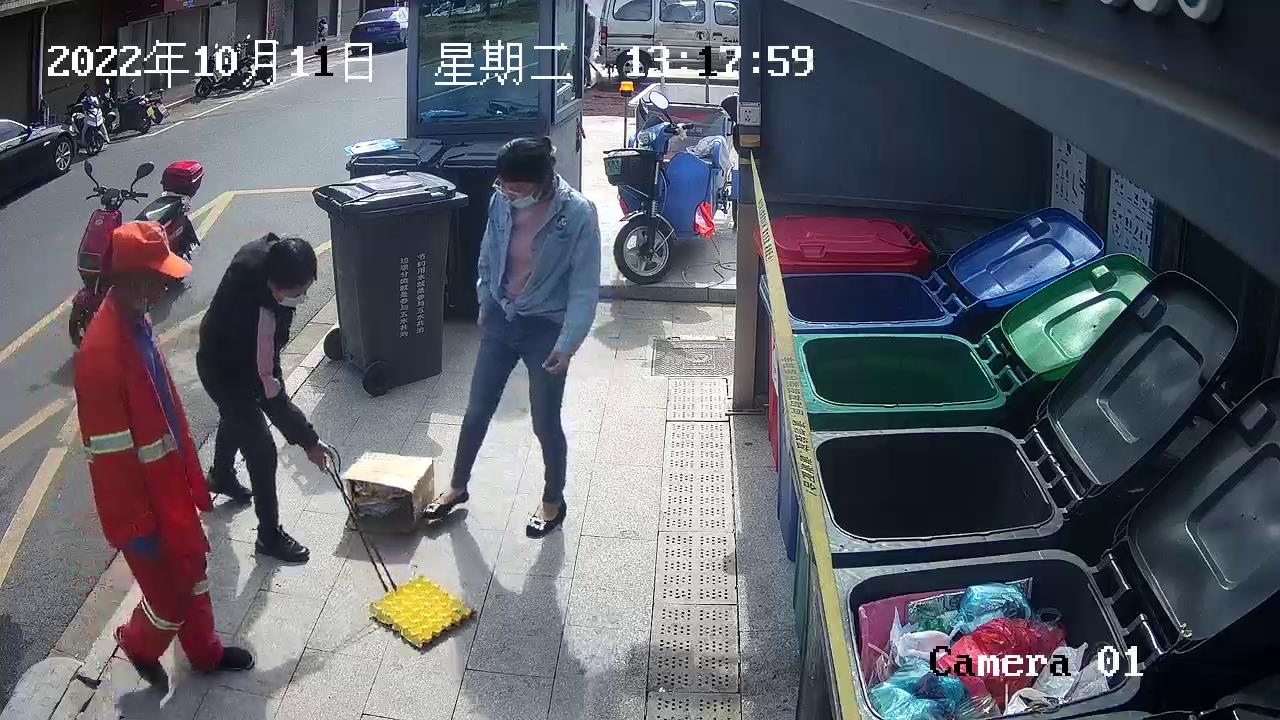person: (193, 231, 335, 565)
worker: (68, 218, 254, 689), (421, 133, 603, 541)
zhizhipin: (367, 572, 475, 650), (339, 450, 438, 535)
